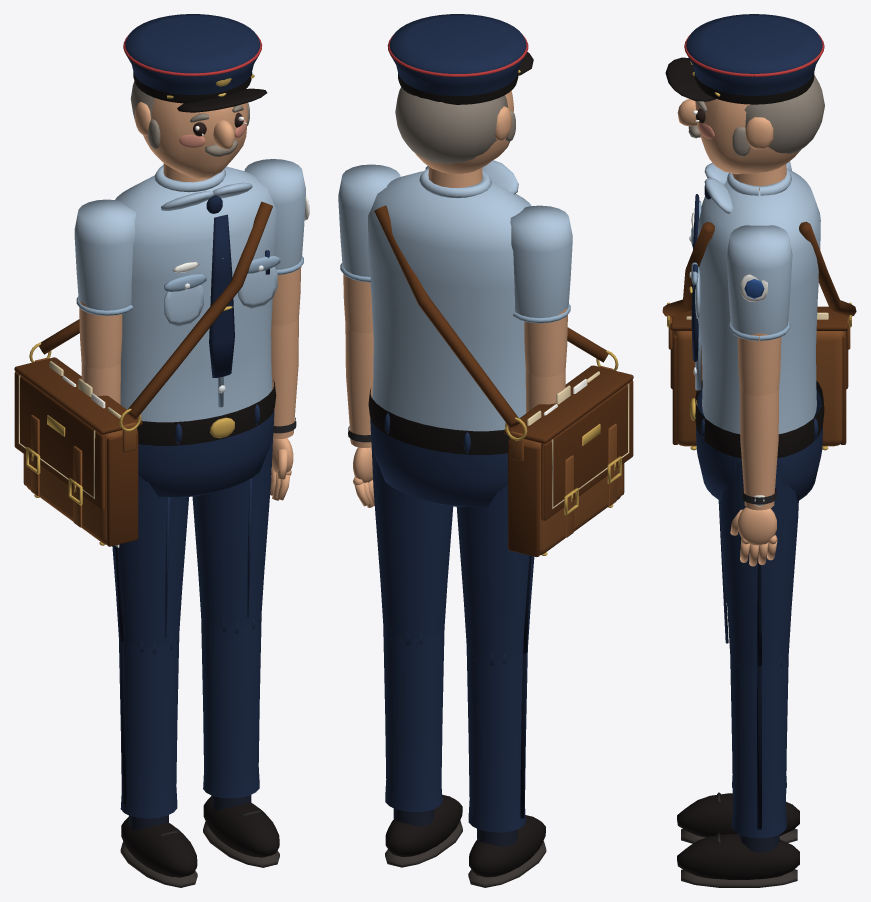
The model's file is mailman.glb.
3 renders of one model, left to right at view 1: azimuth 30°, elevation 25°; view 2: azimuth 150°, elevation 25°; view 3: azimuth 270°, elevation 25°, orthographic.
Parts seen in each view (by area): view 1: torso, head.001, shin_L, shin_R, thigh_L, hips, thigh_R, upperarm_R, upperarm_L, forearm_L, forearm_R; view 2: torso, head.001, shin_L, shin_R, thigh_L, hips, thigh_R, upperarm_R, upperarm_L, forearm_L, forearm_R; view 3: torso, head.001, shin_L, thigh_L, upperarm_L, forearm_L, hips, shin_R.
Boxes of the visible parts, <box> form: torso: <box>14,163,280,546</box>; head.001: <box>123,14,267,178</box>; shin_L: <box>201,616,279,867</box>; shin_R: <box>119,636,197,887</box>; thigh_L: <box>192,415,273,633</box>; hips: <box>137,380,276,497</box>; thigh_R: <box>112,474,188,653</box>; upperarm_R: <box>74,199,135,368</box>; upperarm_L: <box>244,159,309,325</box>; forearm_L: <box>270,317,298,500</box>; forearm_R: <box>81,361,120,404</box>; torso: <box>368,160,633,556</box>; head.001: <box>387,14,533,173</box>; shin_L: <box>383,628,462,867</box>; shin_R: <box>466,648,546,887</box>; thigh_L: <box>370,418,453,645</box>; hips: <box>368,387,509,506</box>; thigh_R: <box>456,484,534,665</box>; upperarm_R: <box>510,205,572,376</box>; upperarm_L: <box>338,164,400,333</box>; forearm_L: <box>345,324,374,507</box>; forearm_R: <box>525,369,565,413</box>; torso: <box>662,162,856,450</box>; head.001: <box>665,14,824,174</box>; shin_L: <box>677,655,799,887</box>; thigh_L: <box>718,460,798,666</box>; upperarm_L: <box>726,225,792,395</box>; forearm_L: <box>730,389,778,566</box>; hips: <box>690,380,824,500</box>; shin_R: <box>677,775,799,843</box>.
Bounding box in the file's own units: 0.579 × 1.8 × 0.3844.
